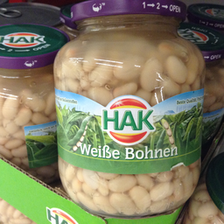beans: (58, 1, 203, 211), (1, 22, 56, 188)
